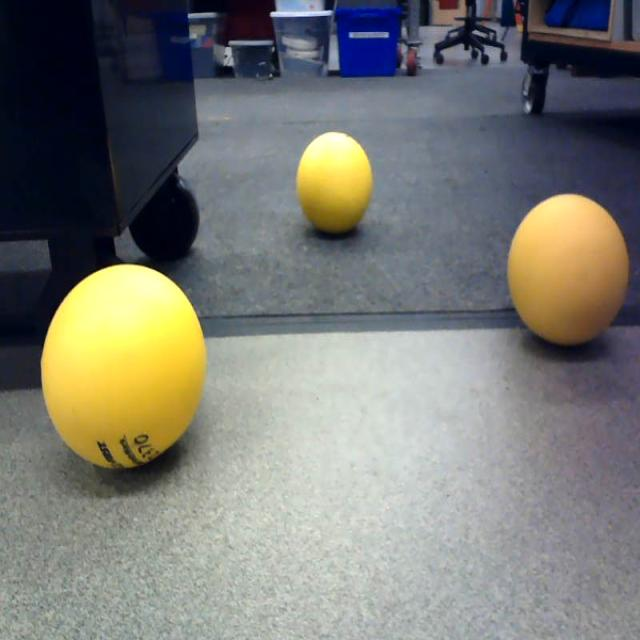Fuel: (41, 264, 207, 468), (508, 195, 630, 343), (297, 132, 373, 235)
